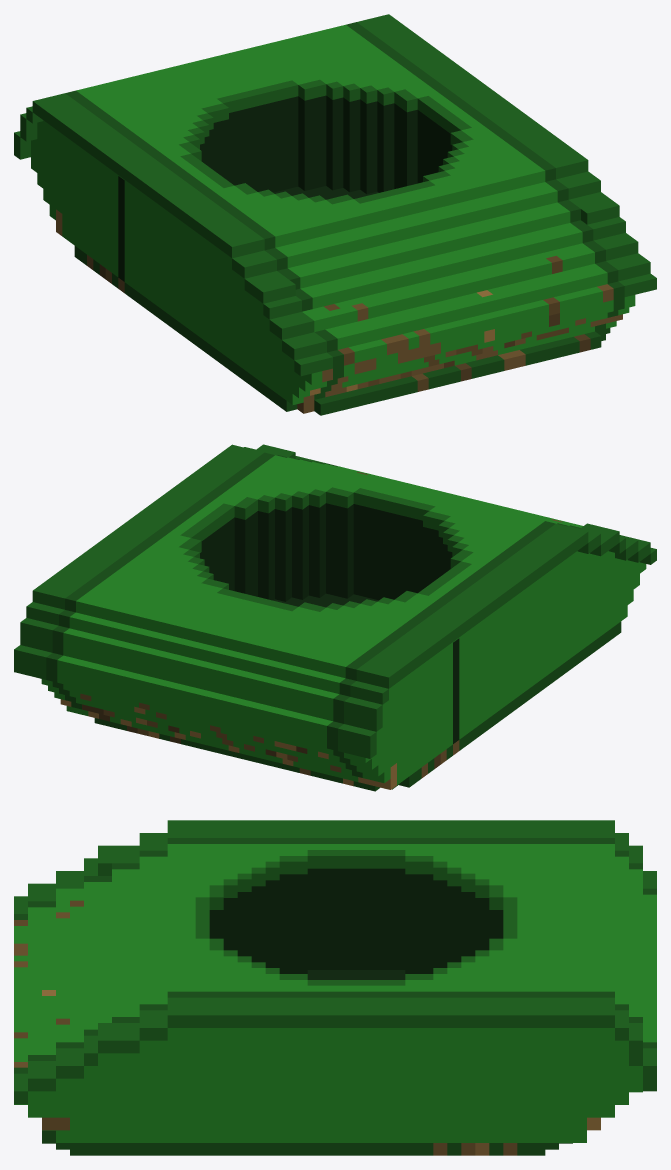
File: Tank-0.obj
3 views of the same model, one above another, from view 1: azimuth 30°, elevation 25°; view 2: azimuth 150°, elevation 25°; view 3: azimuth 270°, elevation 25° (orthographic). The views are drawn at different scales.
Bounding box in the file's own units: 3.3 × 1.2 × 4.6.
1 material, 1 textured.
